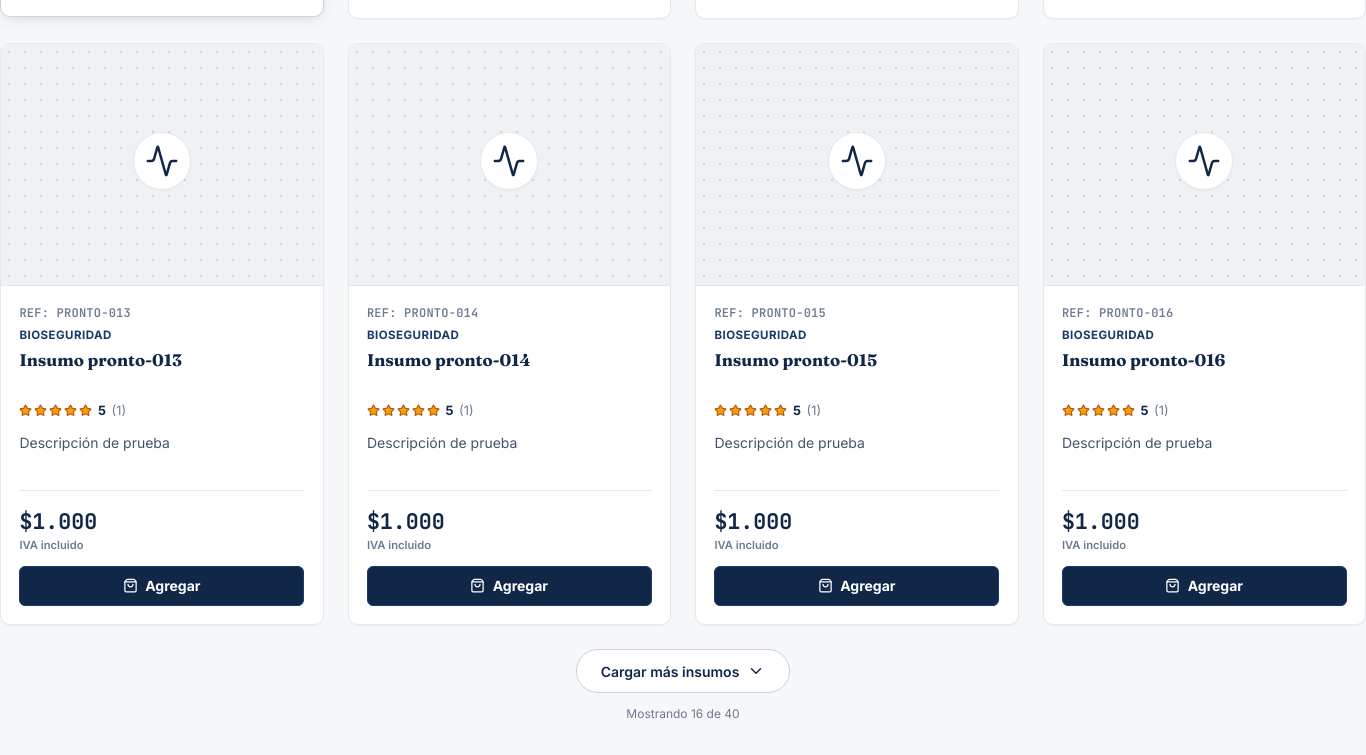
Test: ProductList progressive reveal (Task 8.7) › reveals exactly one additional page per click
This screenshot has width=1366, height=755.
(page scrolled)
Click the button "Cargar más insumos": (683, 671) [576,649,790,693]
(page scrolled)
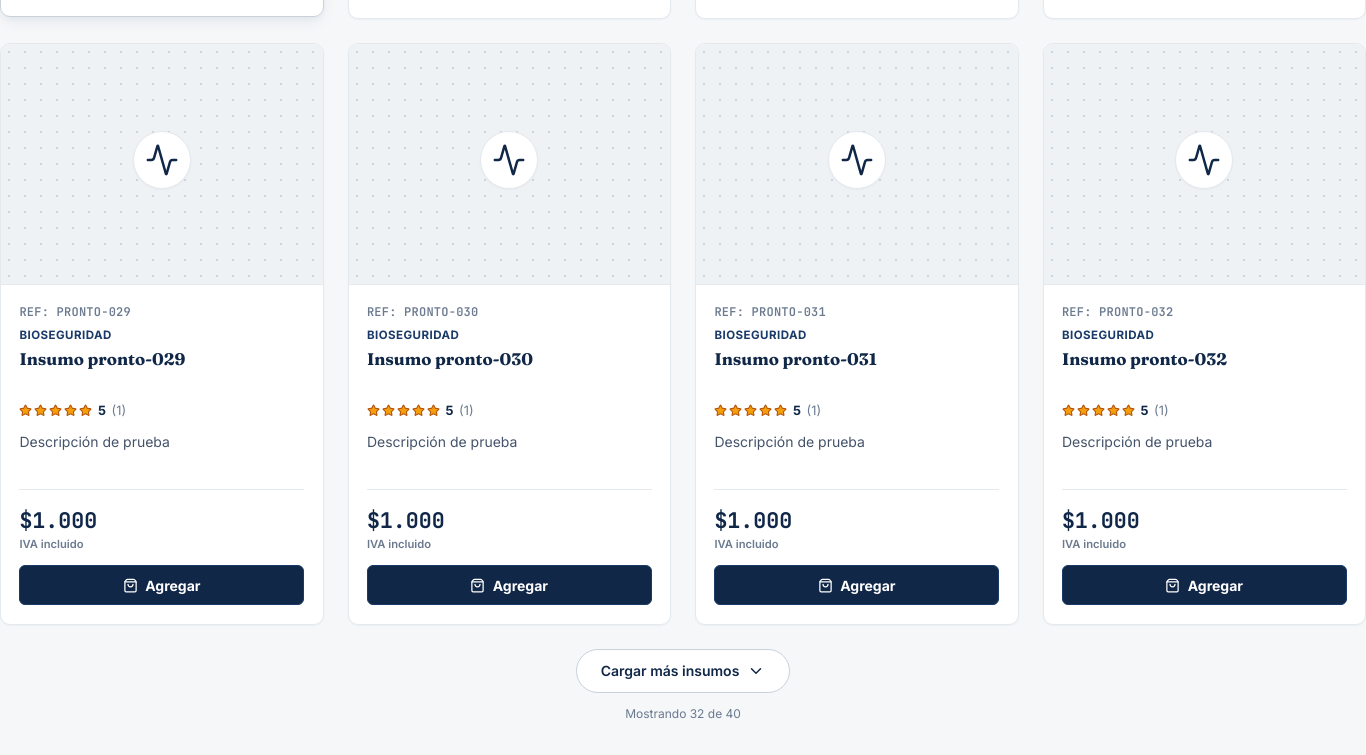
Check: the text "Mostrando 32 de 40" is shown, box [625,704,741,722]
